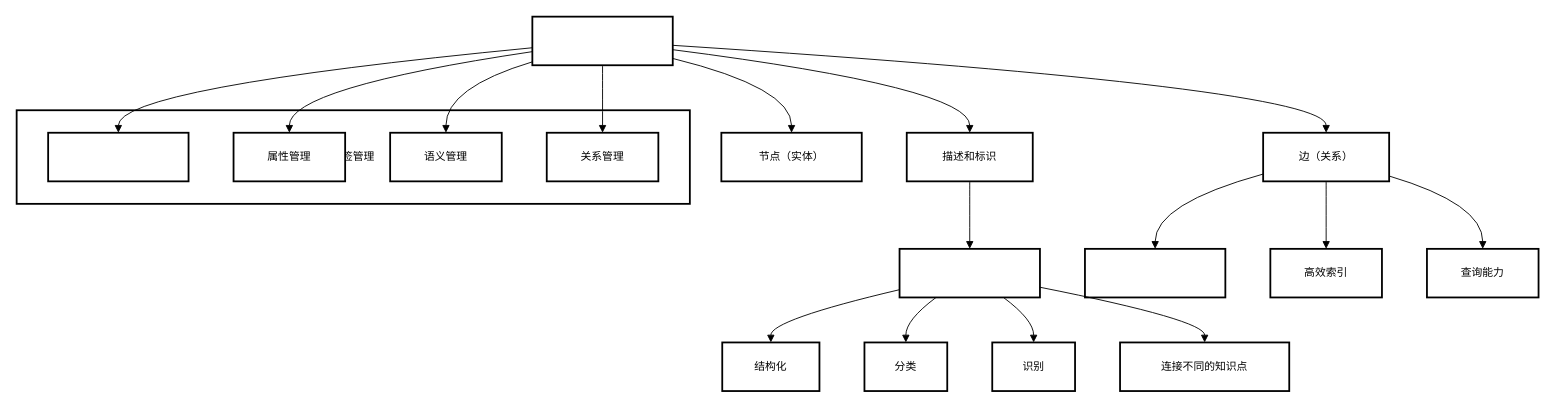
This 1554x407 diagram has some shape labels left out. Each missing label, with the centre of its shape:
关键词或标记: (969,273)
实体类型管理: (118,156)
提供语义关系: (1155,273)
知识图谱标签: (602,40)
